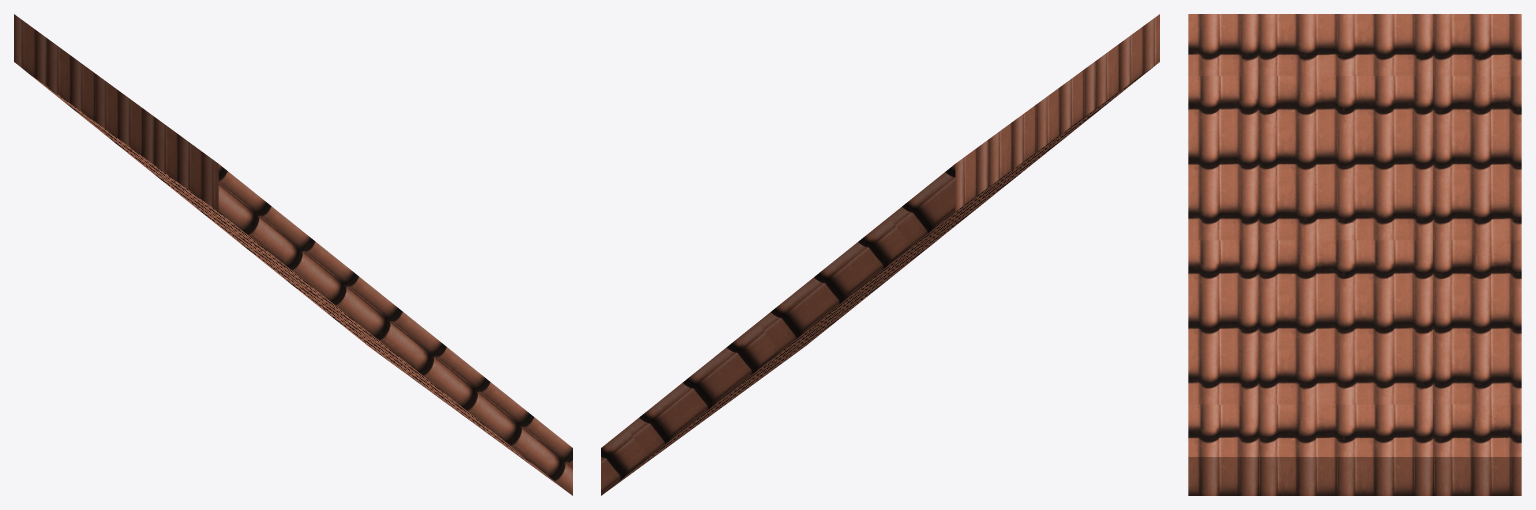
Rendered from kit_Roof edge.glb.
The picture shows the model from 3 angles, left to right: view 1: azimuth 30°, elevation 25°; view 2: azimuth 150°, elevation 25°; view 3: azimuth 270°, elevation 25°; orthographic projection. The views are drawn at different scales.
Visible parts, largest first — view 1: Cube.001; view 2: Cube.001; view 3: Cube.001.
Part boxes in pixels (x1,y1,x2,y2): Cube.001: [14, 14, 572, 495]; Cube.001: [601, 14, 1159, 495]; Cube.001: [1188, 14, 1521, 495].
Size of the model in its own units: 1 by 1.13 by 1.
Materials: 1 (1 with a texture image).
